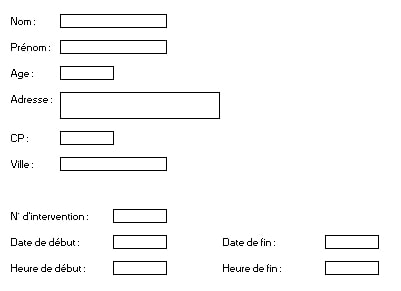input: (56, 88, 228, 124), (53, 9, 171, 32), (53, 152, 171, 173), (56, 37, 171, 57), (107, 203, 172, 226), (109, 232, 174, 254), (320, 231, 382, 253), (107, 258, 171, 279), (56, 129, 122, 149), (55, 64, 119, 83), (321, 259, 384, 277)
text: (4, 204, 92, 226), (3, 260, 89, 279), (3, 235, 87, 253), (5, 92, 54, 108), (5, 125, 36, 150), (6, 40, 53, 55), (9, 155, 39, 176), (6, 11, 40, 29), (4, 66, 38, 83)
